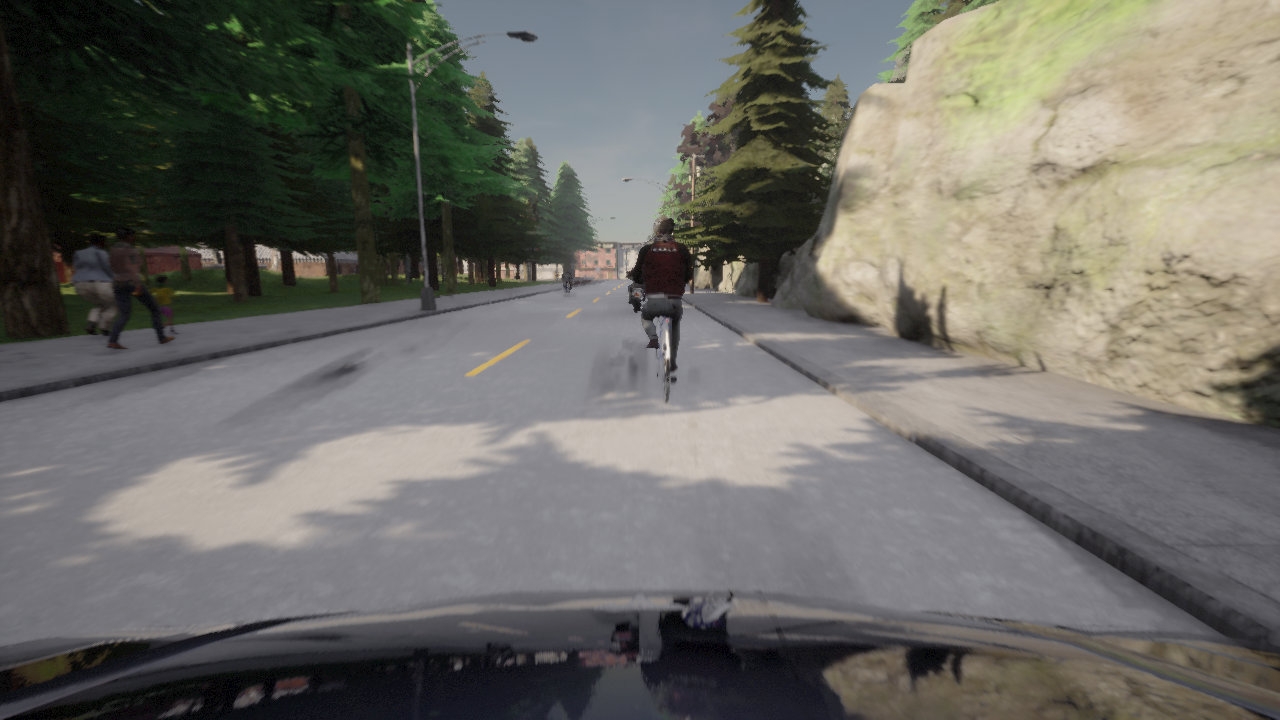cyclist: (0, 588, 1279, 719), (654, 316, 675, 402), (629, 277, 645, 311), (559, 274, 573, 294)
pedestrian: (106, 226, 175, 349), (70, 233, 117, 336), (149, 275, 180, 334)
